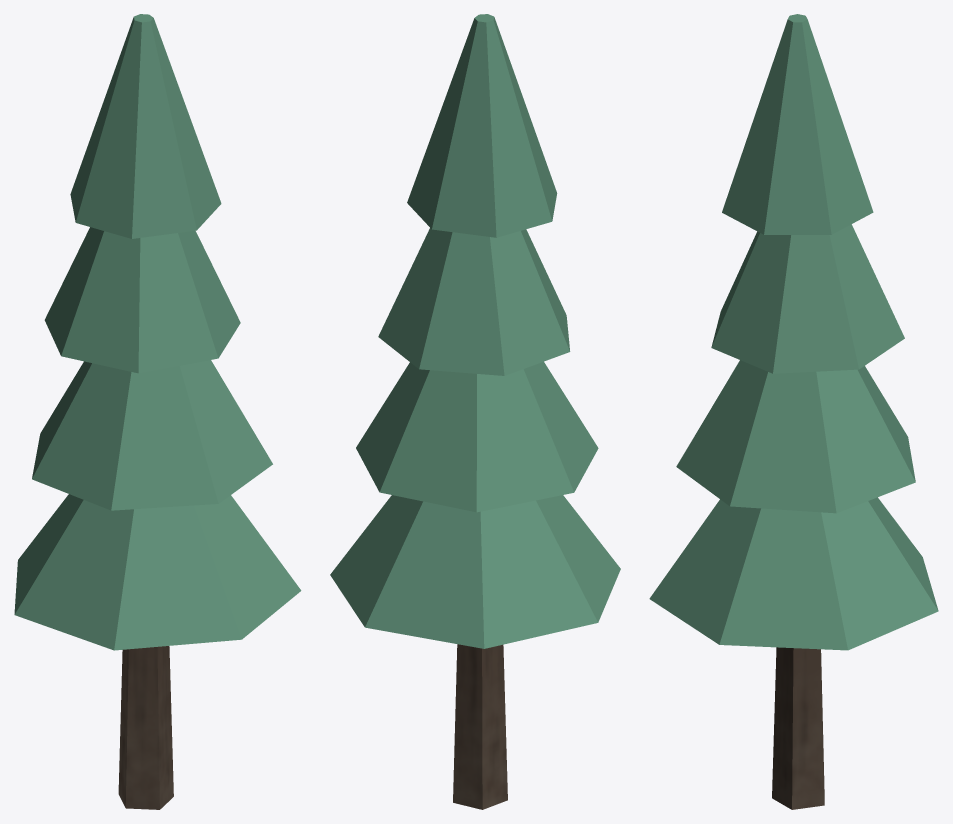
The model's file is arv_pinheiro_2.glb.
3 renders of one model, left to right at view 1: azimuth 30°, elevation 25°; view 2: azimuth 150°, elevation 25°; view 3: azimuth 270°, elevation 25°, orthographic.
Parts seen in each view (by area): view 1: arv_pinheiro_2; view 2: arv_pinheiro_2; view 3: arv_pinheiro_2.
Boxes of the visible parts, <box> form: arv_pinheiro_2: <box>14,14,301,809</box>; arv_pinheiro_2: <box>330,14,620,809</box>; arv_pinheiro_2: <box>649,14,938,809</box>.
Bounding box in the file's own units: 0.844 × 2.51 × 0.846.
2 materials, 1 textured.
